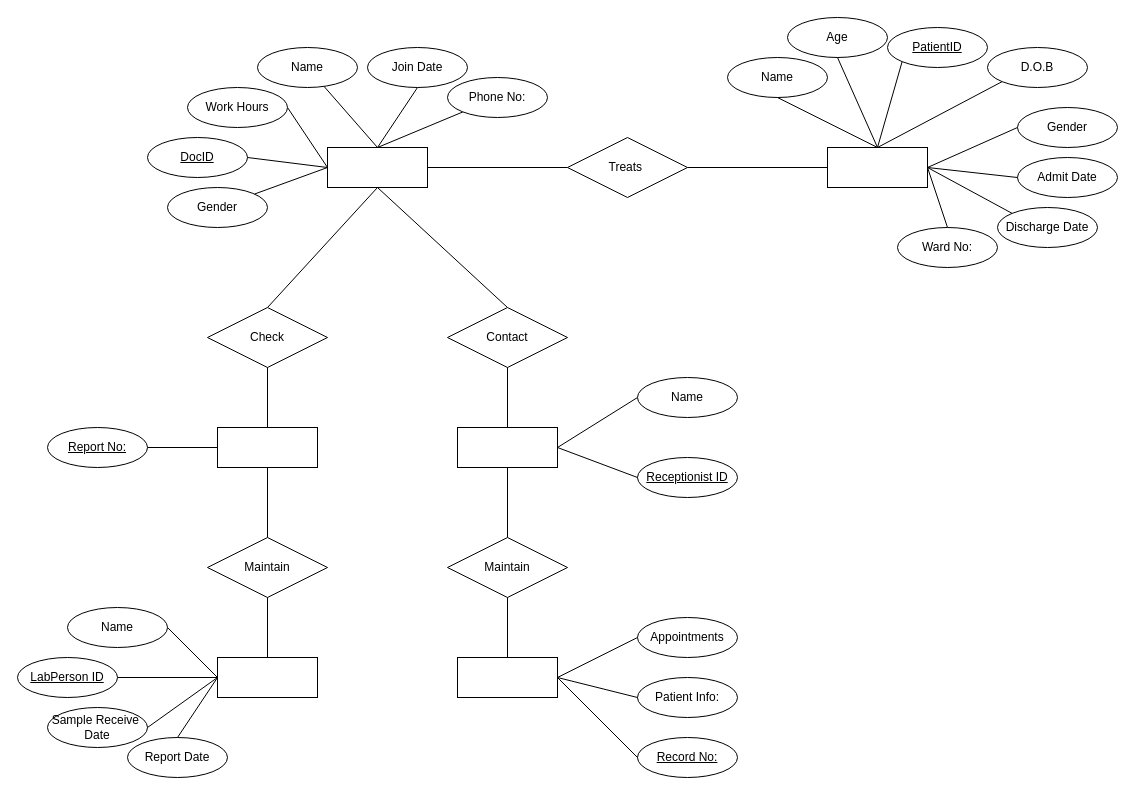
This 1135x795 diagram has some shape labels left out. Each missing label, with the box of its shape:
Doctor: (326, 146, 428, 188)
Lab Person: (216, 656, 318, 698)
Lab Reports: (216, 426, 318, 468)
Patient: (826, 146, 928, 188)
Receptionist: (456, 426, 558, 468)
Record: (456, 656, 558, 698)
